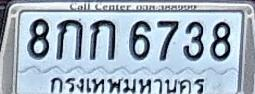3: (183, 20, 204, 60)
6: (130, 20, 150, 60)
7: (157, 20, 179, 61)
8: (27, 18, 49, 59), (210, 21, 230, 61)
A01: (56, 18, 83, 60), (90, 19, 116, 60)
BKK: (49, 72, 207, 94)
